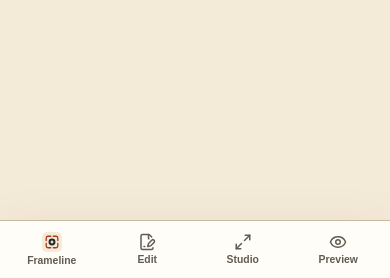
TeleprompterDock › opens the phone actions as an upward menu
Click the button "Frameline" at (52, 250), box top-left (6, 224), bottom-right (98, 274)
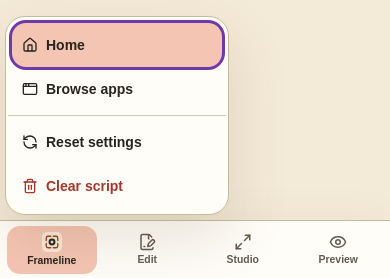
Check: the menu is shown, box top-left (5, 16), bottom-right (229, 215)
Check: the menu item "Browse apps" is shown, box top-left (22, 81), bottom-right (133, 97)
